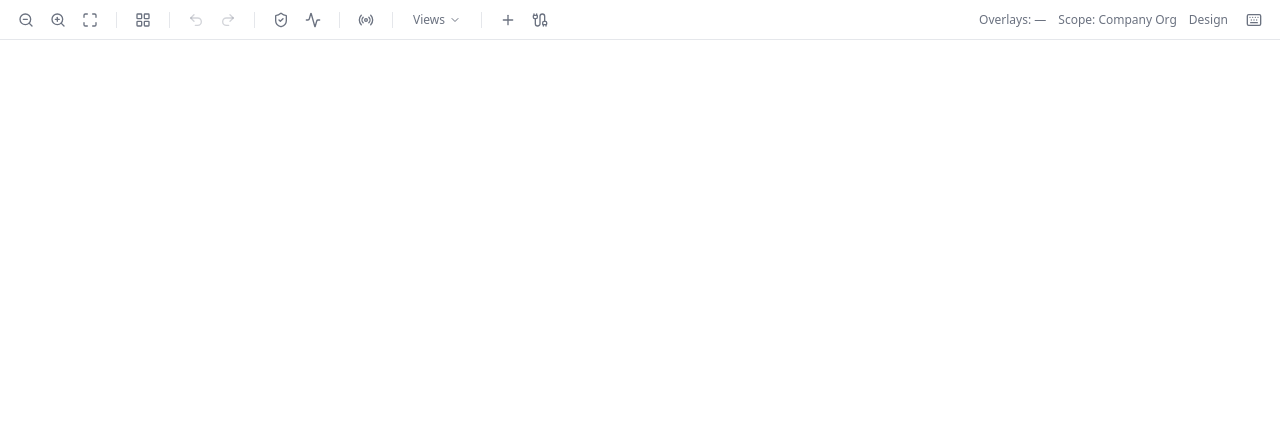
it: CanvasToolbar — Relationship Palette (CAV-006) › should open relationship palette with categories
Click the button with test id "rel-palette-button". click: click(540, 20)
box: [526, 6, 554, 34]
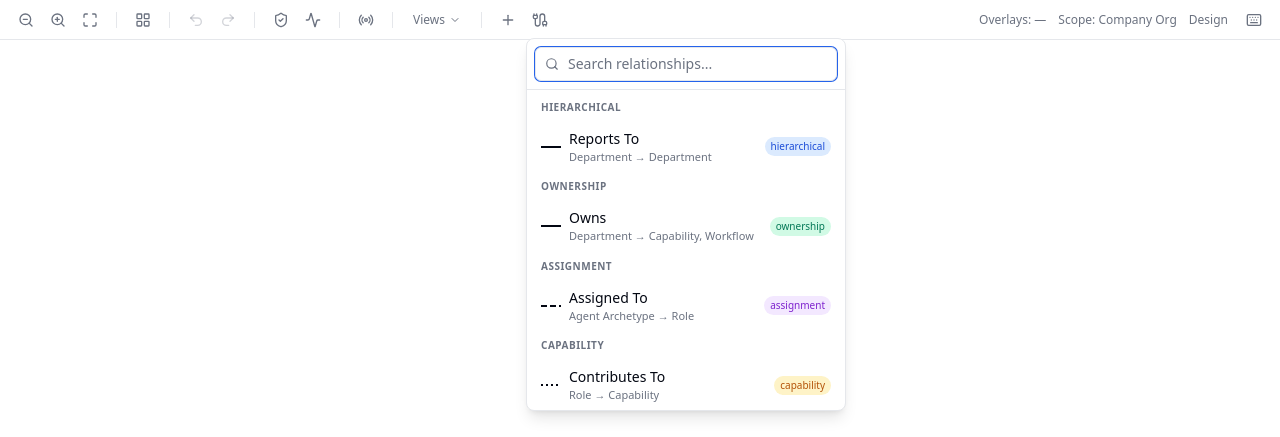
Result: the element with test id "relationship-palette" is shown at [526, 38, 846, 410]
Result: the element with test id "rel-palette-group-hierarchical" is shown at [531, 94, 841, 173]
